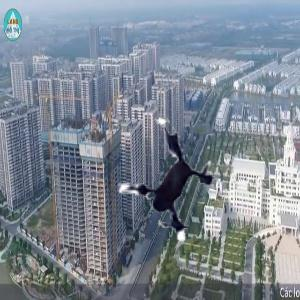drone: (87, 109, 237, 259)
